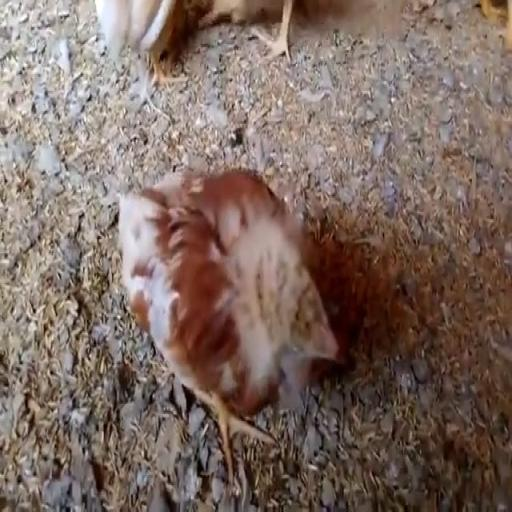disease: (276, 266, 338, 372)
